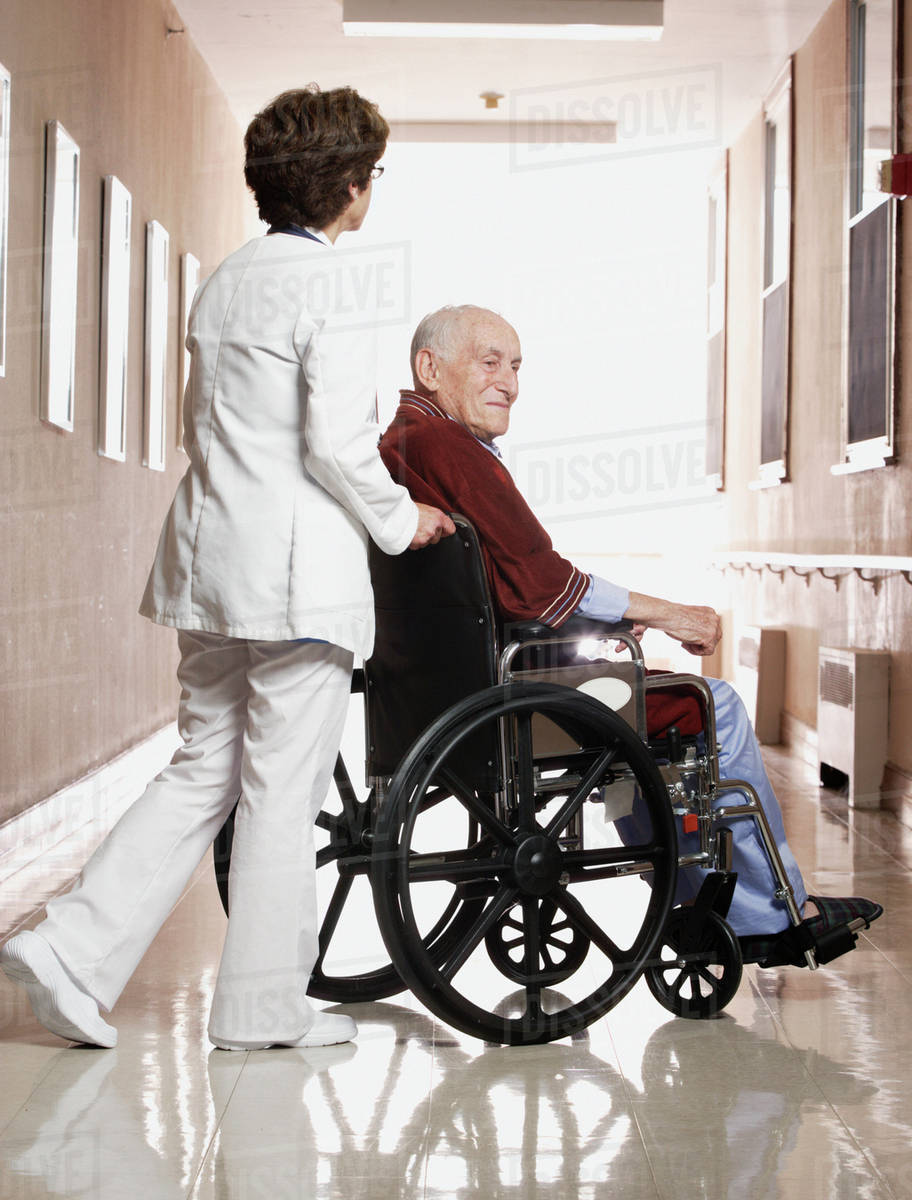person: (46, 75, 362, 1024), (375, 277, 738, 640)
wheelchair: (354, 656, 780, 1047)
